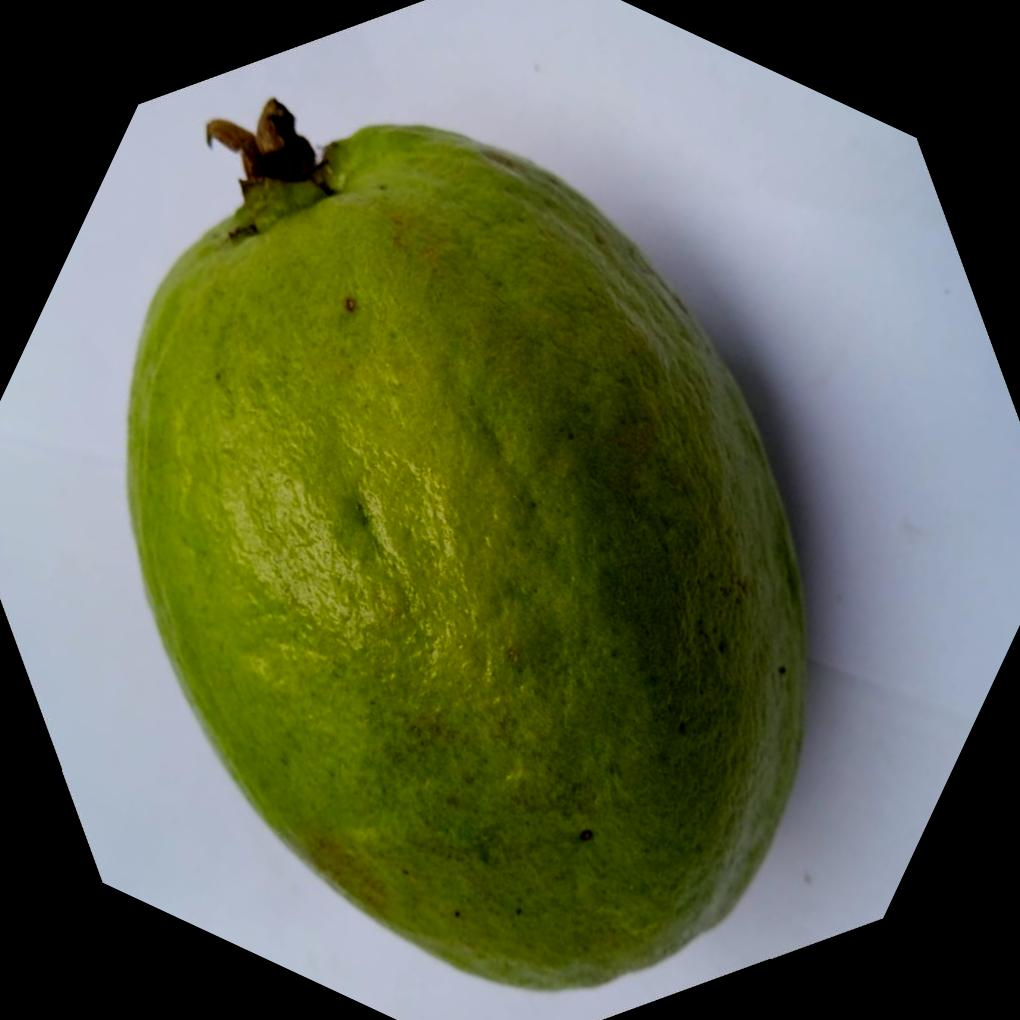FreshGuava: (124, 101, 810, 992)
